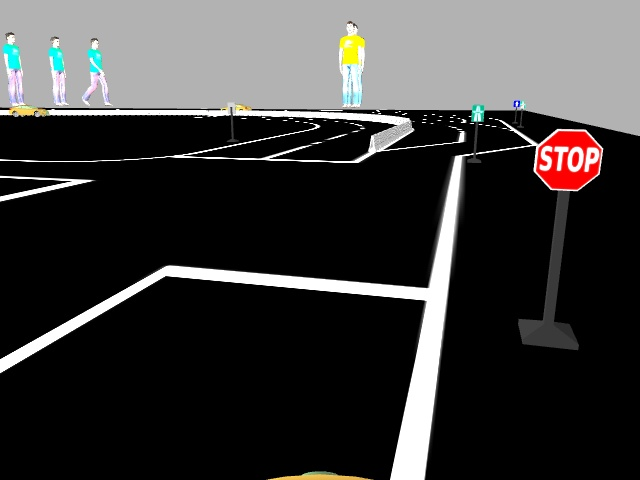Stop: (529, 124, 603, 192)
